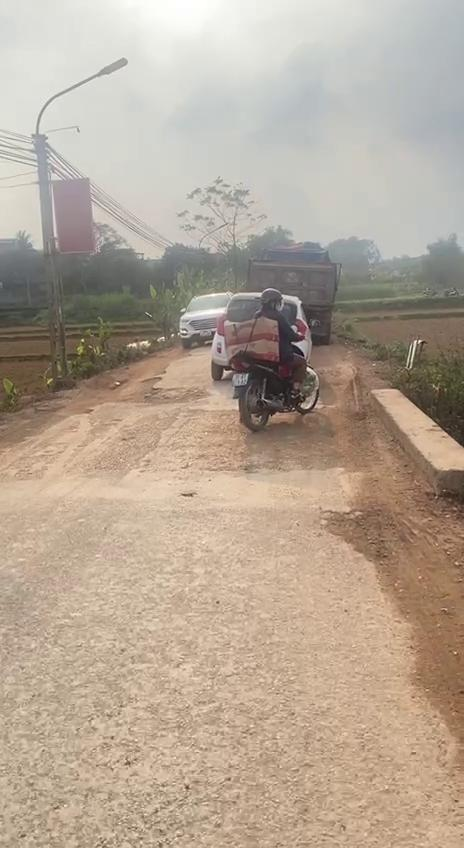pothole: (320, 500, 396, 565), (105, 374, 214, 410)
